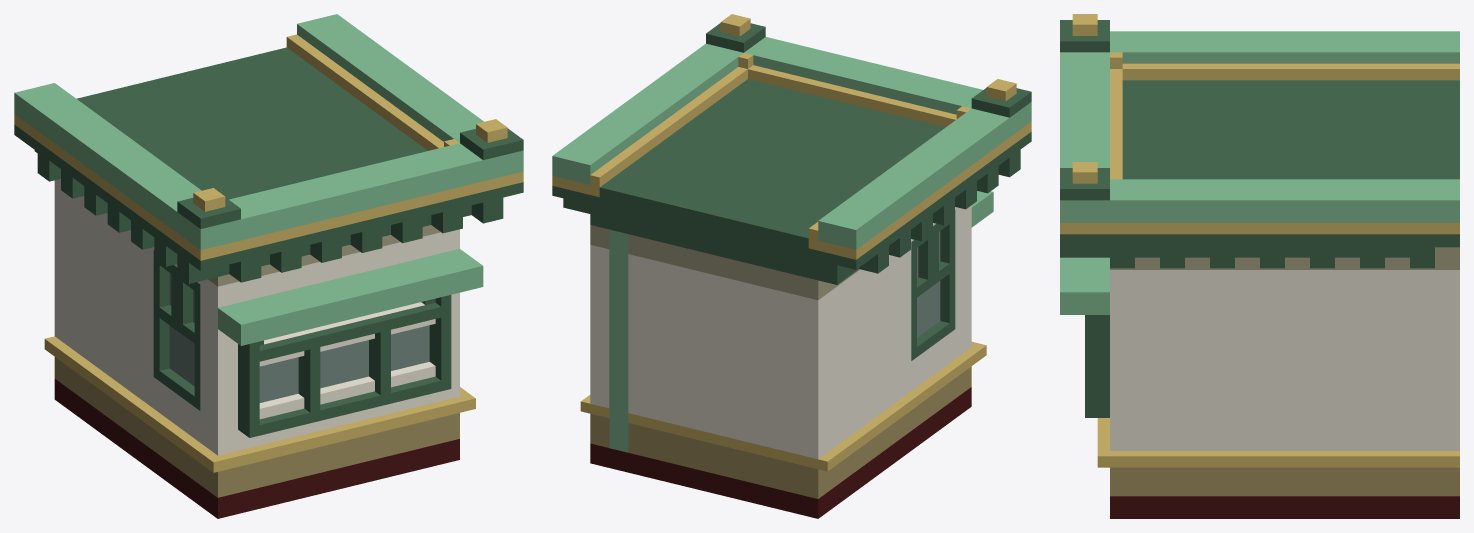
Rendered from tile_1_left_nb_90.obj.
The picture shows the model from 3 angles, left to right: view 1: azimuth 30°, elevation 25°; view 2: azimuth 150°, elevation 25°; view 3: azimuth 270°, elevation 25°; orthographic projection. The views are drawn at different scales.
Size of the model in its own units: 3.2 by 3.2 by 3.2.
